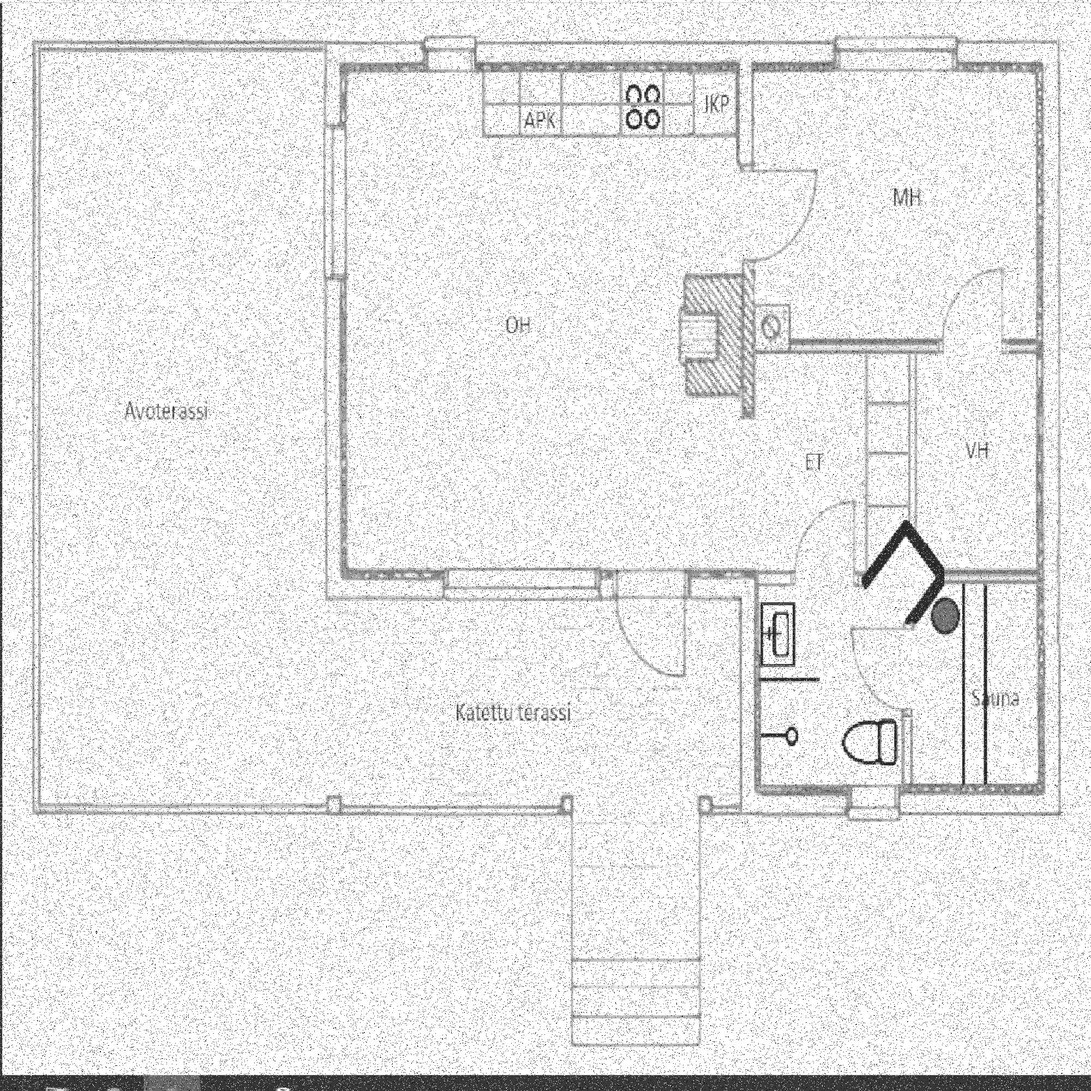wall: (326, 44, 1056, 71), (1037, 45, 1057, 814), (325, 570, 759, 598), (325, 45, 346, 598), (740, 788, 1057, 814), (736, 45, 754, 419), (740, 571, 760, 814), (790, 337, 1057, 350), (868, 518, 917, 582), (904, 516, 950, 584), (902, 572, 944, 625), (903, 620, 912, 814), (908, 338, 917, 521), (740, 571, 870, 582), (941, 572, 1056, 583)
